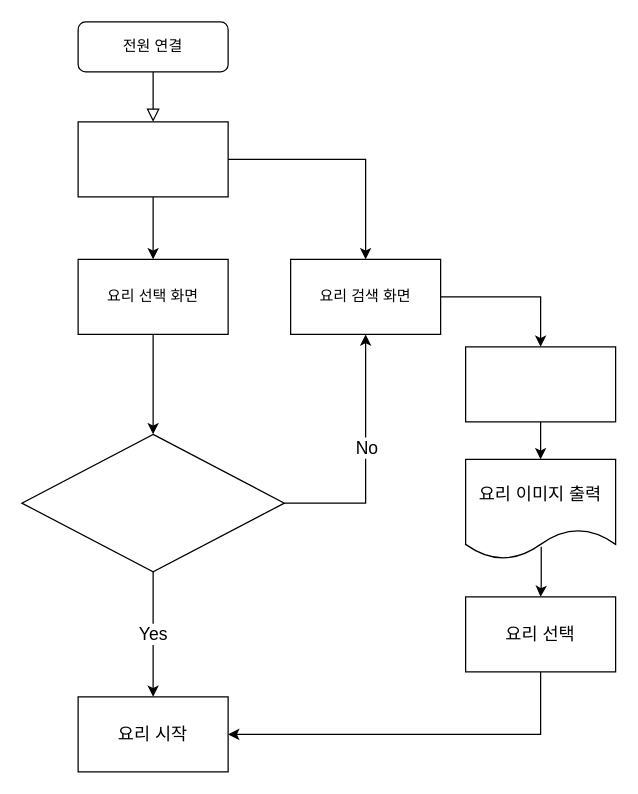
Some shapes in this 638 by 794 pixel diagram are drawn without their labels. The box of each missing label's shape, as (x1, y1, x2, y2) in pixels:
요리 검색: (464, 346, 616, 422)
원하는 요리를 선택할 수 있는가: (21, 433, 284, 572)
초기 화면: (77, 121, 228, 197)
